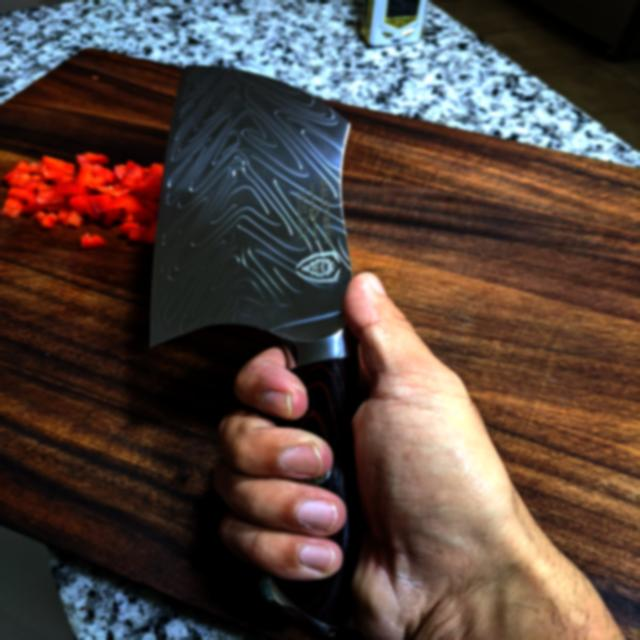cleaver: (161, 59, 506, 640)
